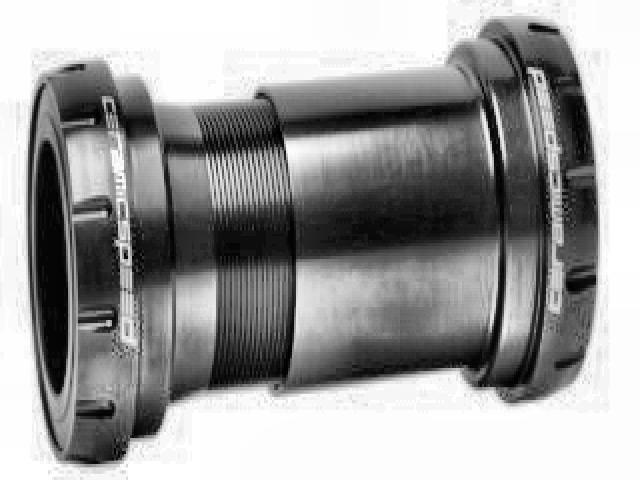bottom_bracket: (25, 11, 602, 468)
